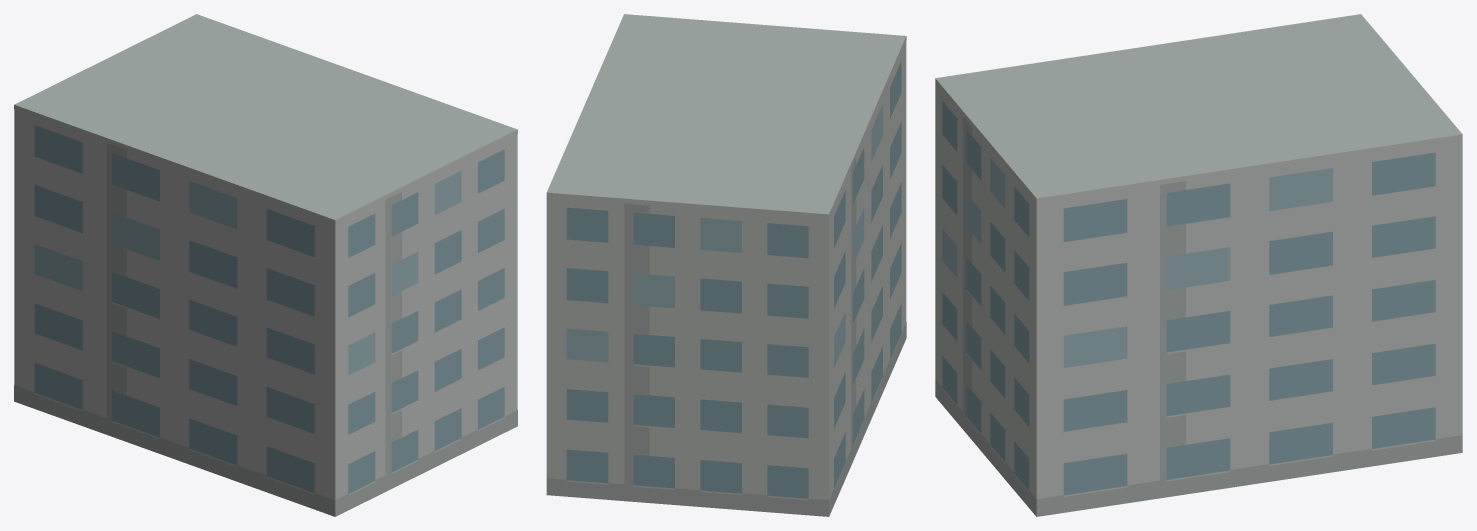
Rendered from residential-16b72a85-7a35-4476-ae33-976541210d23.glb.
3 views of the same model, side by side, from view 1: azimuth 30°, elevation 25°; view 2: azimuth 150°, elevation 25°; view 3: azimuth 270°, elevation 25° (orthographic). The views are drawn at different scales.
Visible parts, largest first — view 1: residential-16b72a85-7a35-4476-ae33-976541210d23.tmp; view 2: residential-16b72a85-7a35-4476-ae33-976541210d23.tmp; view 3: residential-16b72a85-7a35-4476-ae33-976541210d23.tmp.
Part boxes in pixels (<box>): residential-16b72a85-7a35-4476-ae33-976541210d23.tmp: <box>14,14,517,516</box>; residential-16b72a85-7a35-4476-ae33-976541210d23.tmp: <box>546,14,906,516</box>; residential-16b72a85-7a35-4476-ae33-976541210d23.tmp: <box>935,14,1462,516</box>.
Size of the model in its own units: 18.95 by 15.25 by 22.9.
